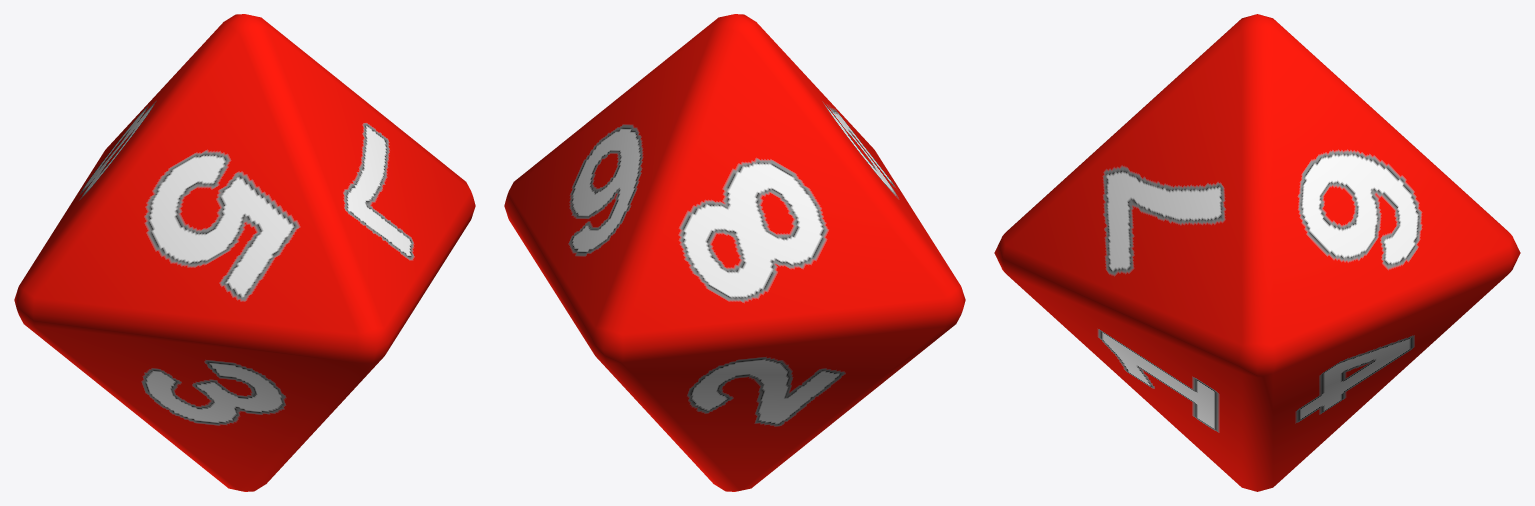
The picture shows the model from 3 angles, left to right: view 1: azimuth 30°, elevation 25°; view 2: azimuth 150°, elevation 25°; view 3: azimuth 270°, elevation 25°; orthographic projection.
Parts seen in each view (by area): view 1: 8Red_8Red_0; view 2: 8Red_8Red_0; view 3: 8Red_8Red_0.
Part boxes in pixels (left/top/right/bottom): 8Red_8Red_0: left=14, top=14, right=475, bottom=491; 8Red_8Red_0: left=504, top=14, right=965, bottom=491; 8Red_8Red_0: left=994, top=14, right=1520, bottom=491.
Size of the model in its own units: 1.86 by 1.86 by 1.86.
Materials: 1 (1 with a texture image).
